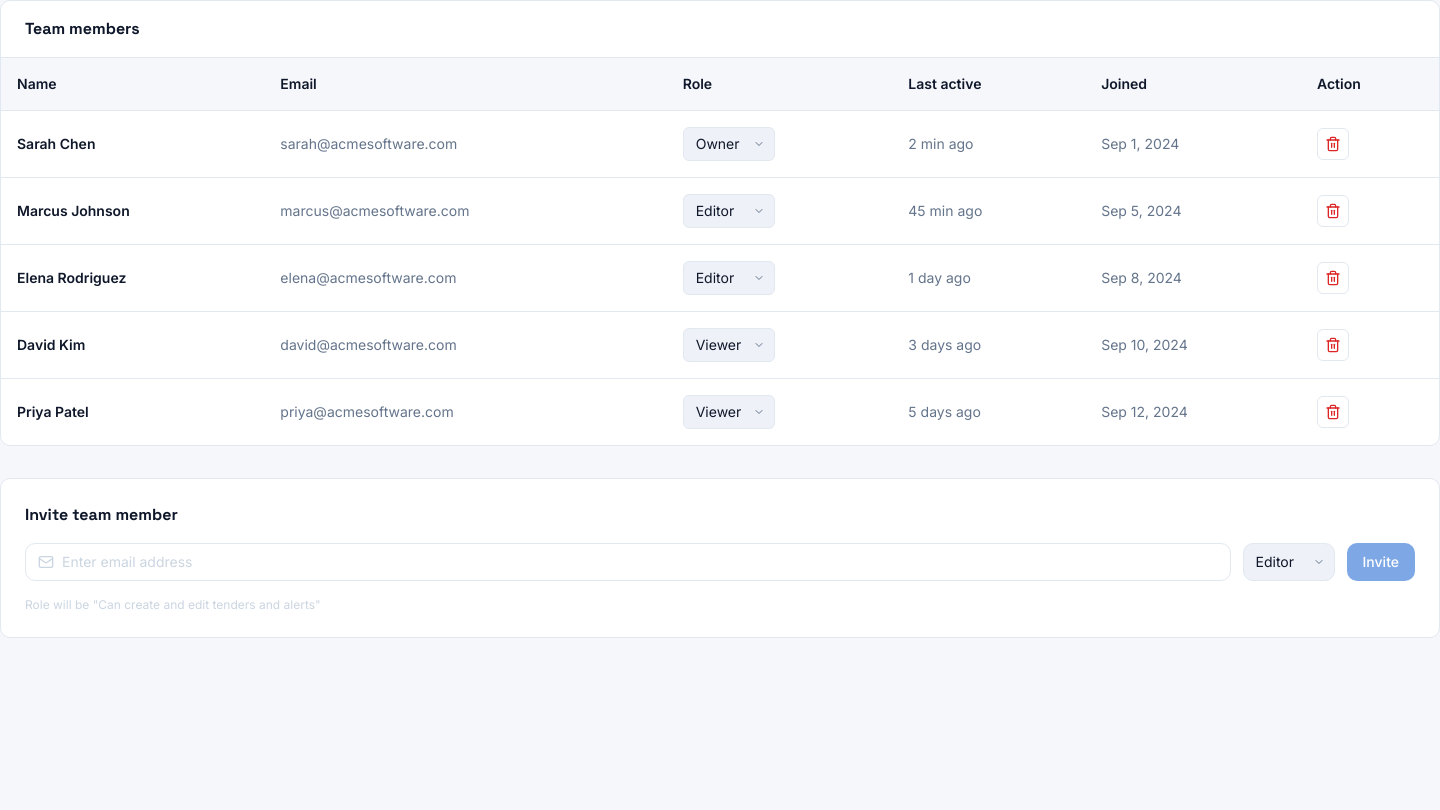
Test: TeamSection › enables invite button when email is entered
The image size is (1440, 810).
In the field with placeholder "Enter email address": (640, 562) [62,552,1218,572], type "test@example.com"
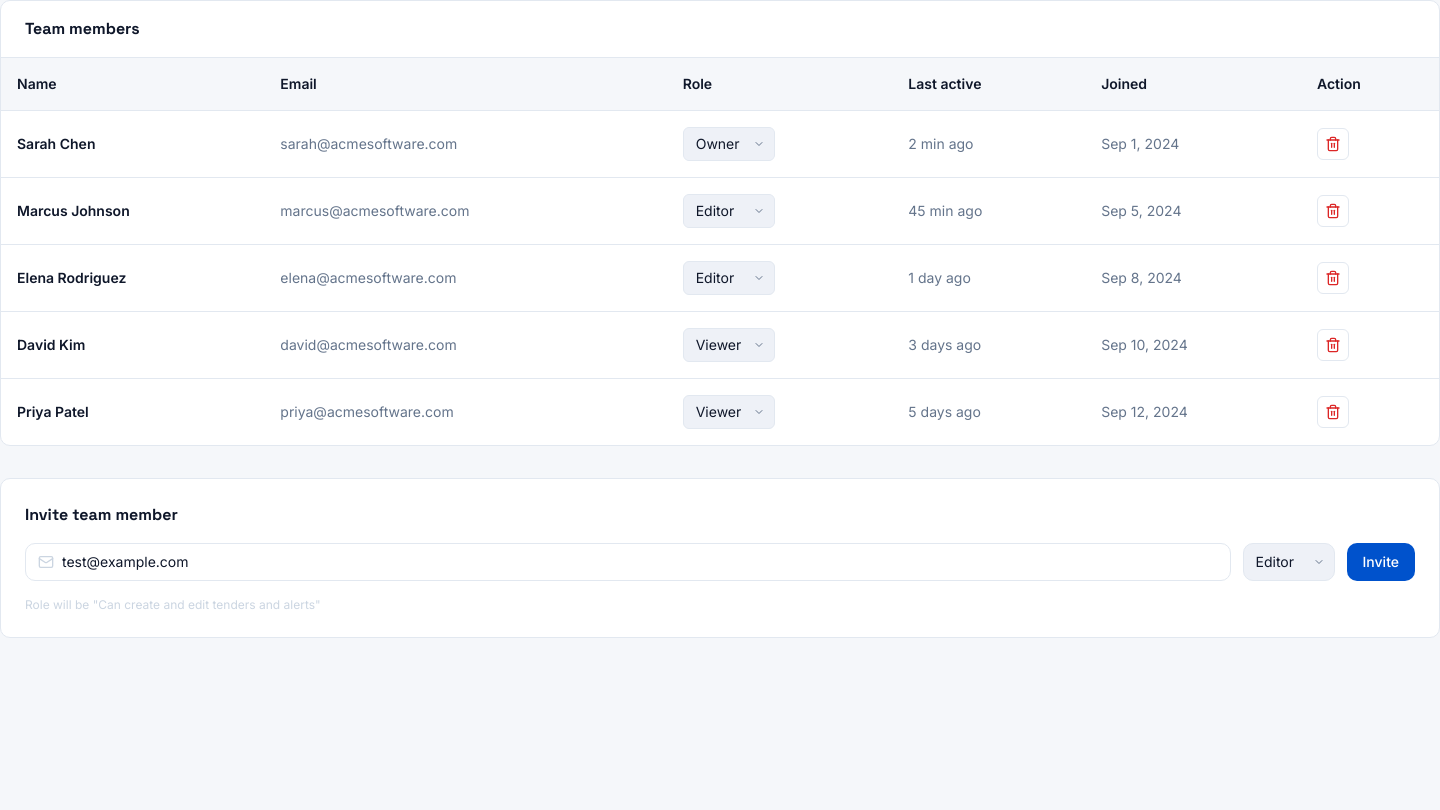
Result: the button "Invite" is enabled at [1346,543,1415,581]
